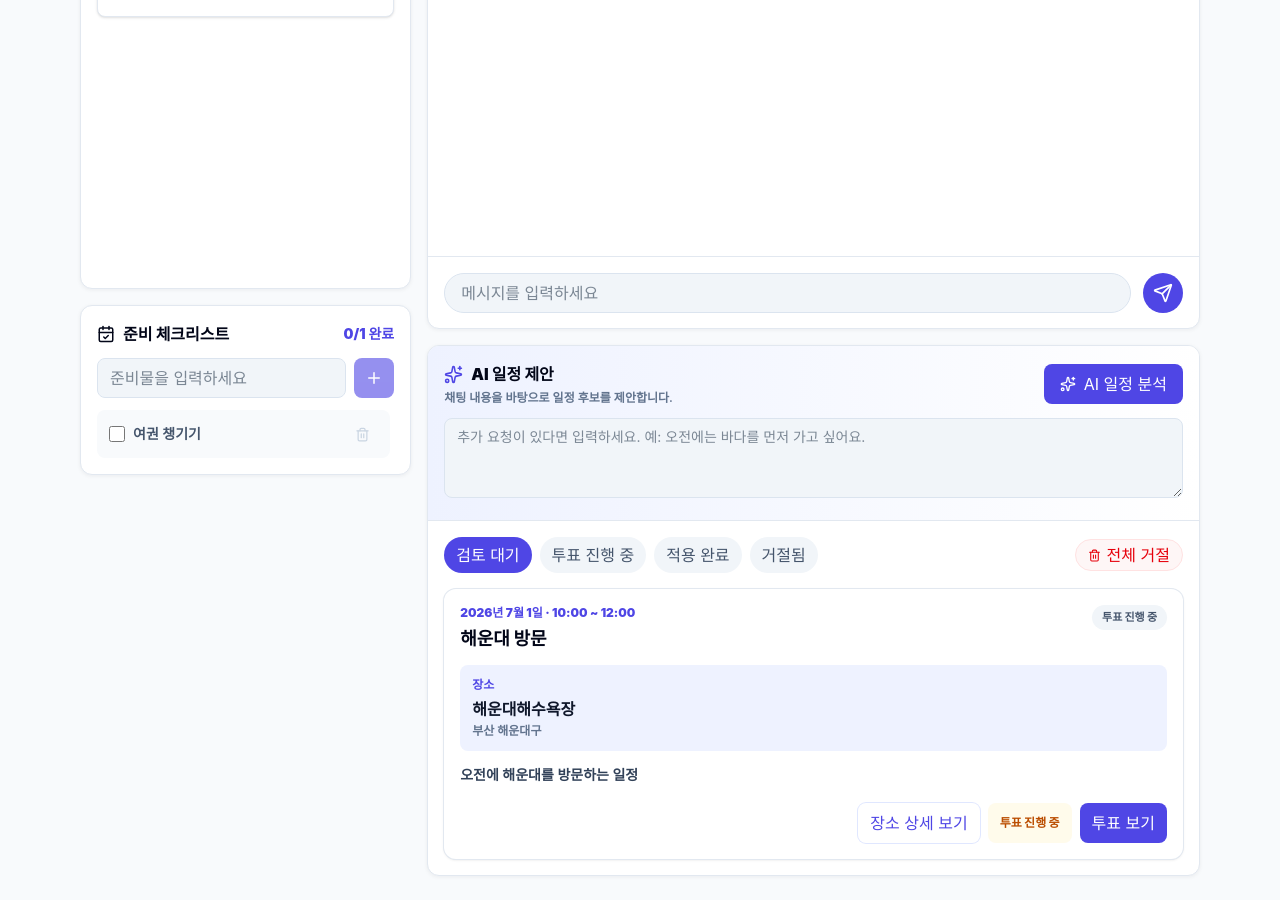
Scenario: ScheduleDetailPage collaboration controls › shows team vote progress and prevents closing before every member votes
(page scrolled)
Click the button with test id "open-ai-vote-31": (1123, 823) x1=1080 y1=803 x2=1167 y2=843
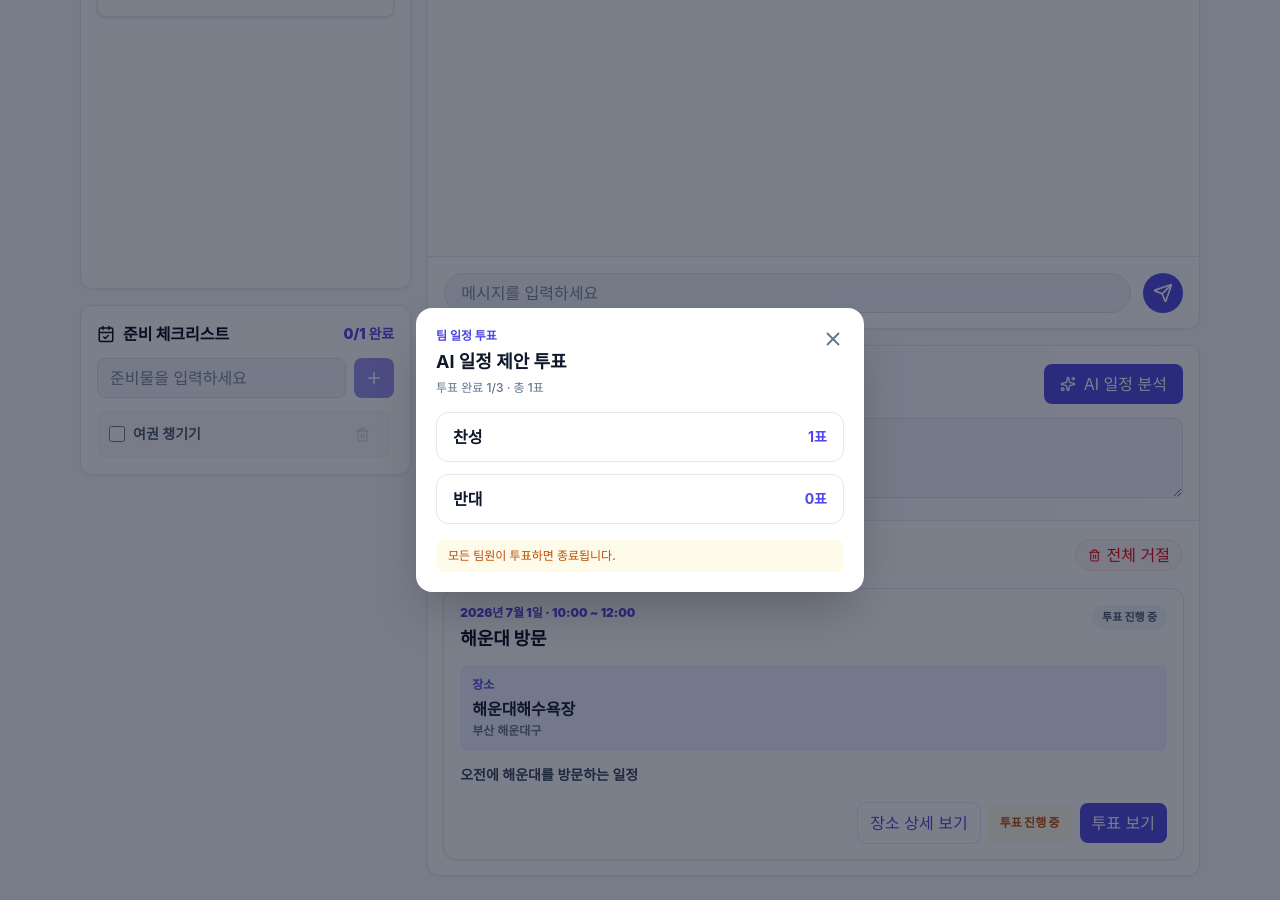
Now the element with test id "ai-vote-modal" shows "찬성", box x1=436 y1=412 x2=844 y2=462
Now the element with test id "ai-vote-modal" shows "투표 완료 1/3", box x1=436 y1=380 x2=544 y2=395
Now the element with test id "ai-vote-modal" shows "모든 팀원이 투표하면 종료됩니다.", box x1=448 y1=548 x2=616 y2=563
